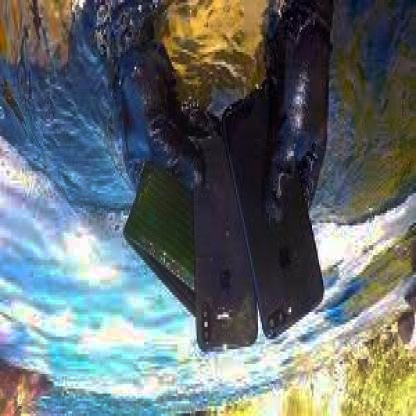cellphone: (229, 89, 327, 339), (192, 141, 257, 352)
